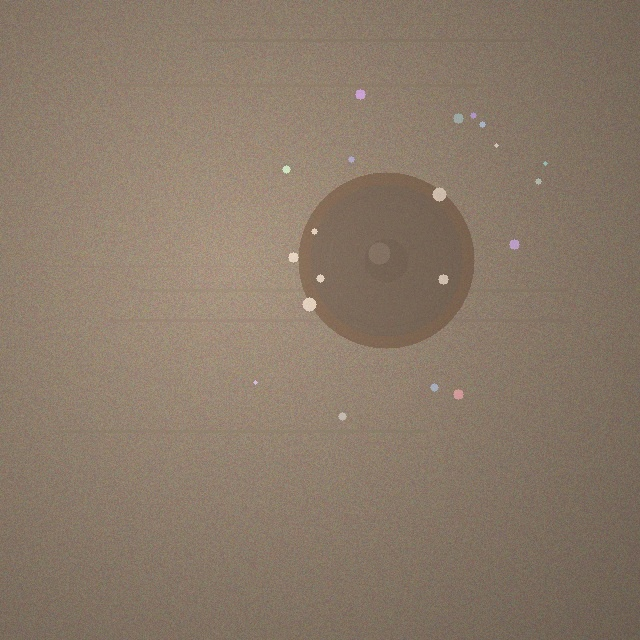overburn: (298, 172, 474, 348)
